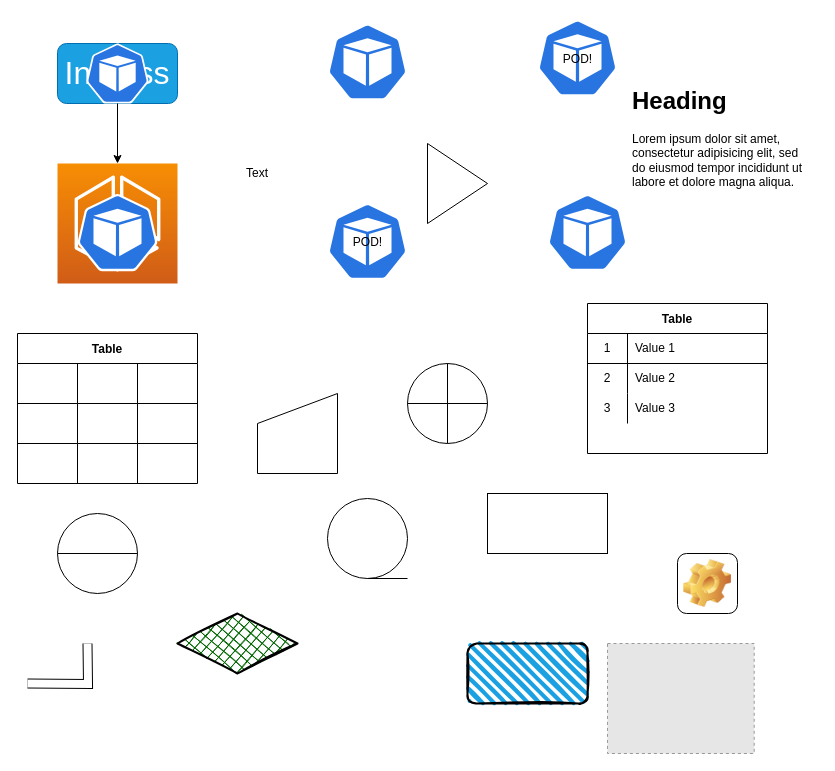
The diagram is 835 pixels wide and 771 high, and some of its shapes have lost their labels. Grey dashed boxes stand in for pictures. The centre of each missing label's shape, as x and y in pixels:
"Icon" goes at pixel 707 583.
"Organization" goes at pixel 547 523.
